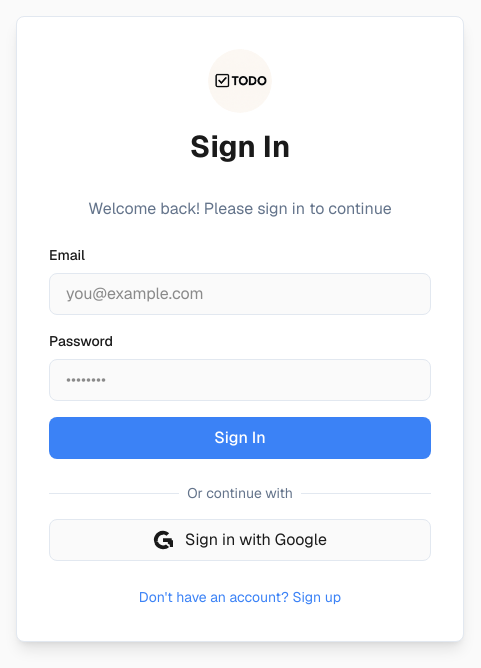
Test case: Sign In Flow › should toggle between sign in and sign up modes
Expected: the heading "Sign In" is shown, [190,129,290,165]
Expected: the button "Sign In" is shown, [49,417,431,459]
// Switch to sign up
Click the button "Don't have an account? Sign up" at (240, 597), box [139,587,341,607]
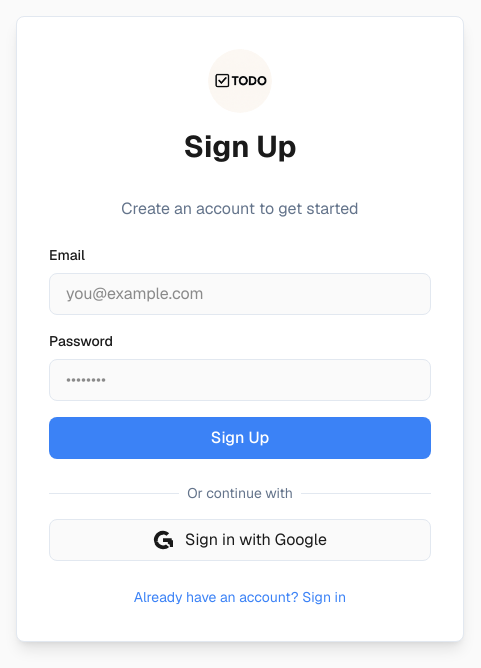
Result: the heading "Sign Up" is shown at [184,129,297,165]
Result: the button "Sign Up" is shown at [49,417,431,459]
// Switch back to sign in
Click the button "Already have an account? Sign in" at (240, 597), box [134,587,346,607]
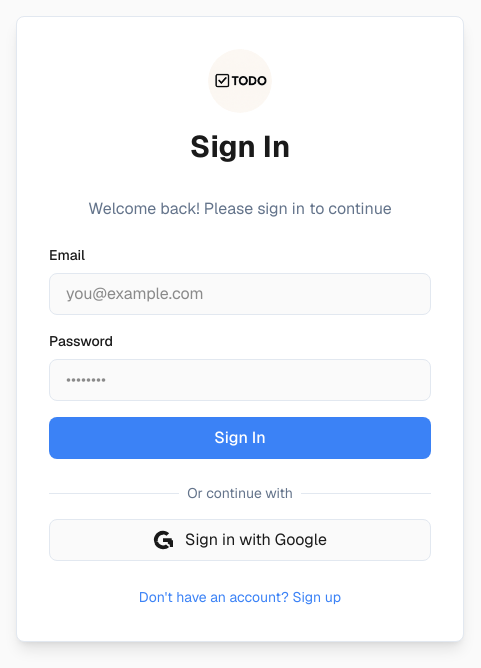
Result: the heading "Sign In" is shown at [190,129,290,165]
Result: the button "Sign In" is shown at [49,417,431,459]
